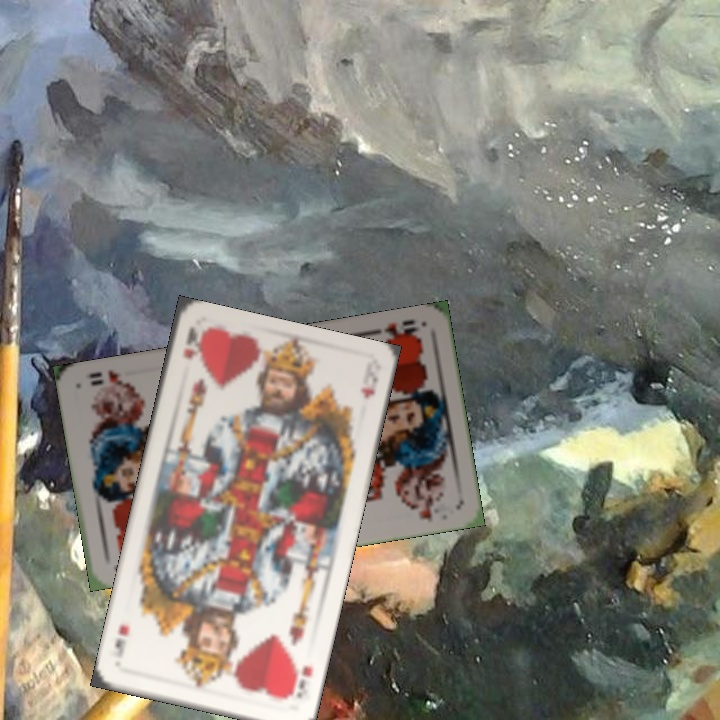HK: (285, 658, 315, 700), (179, 323, 206, 362)
HO: (366, 315, 425, 345)
